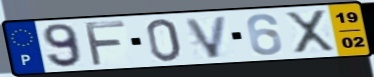0: (143, 17, 184, 63)
6: (244, 13, 284, 57)
9: (42, 22, 84, 69)
F: (81, 20, 128, 68)
V: (183, 14, 231, 60)
X: (282, 8, 338, 55)
